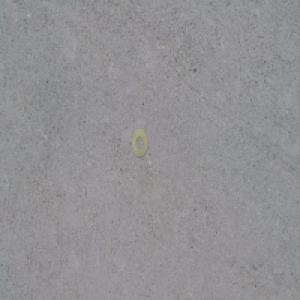Washer: (132, 128, 149, 159)
